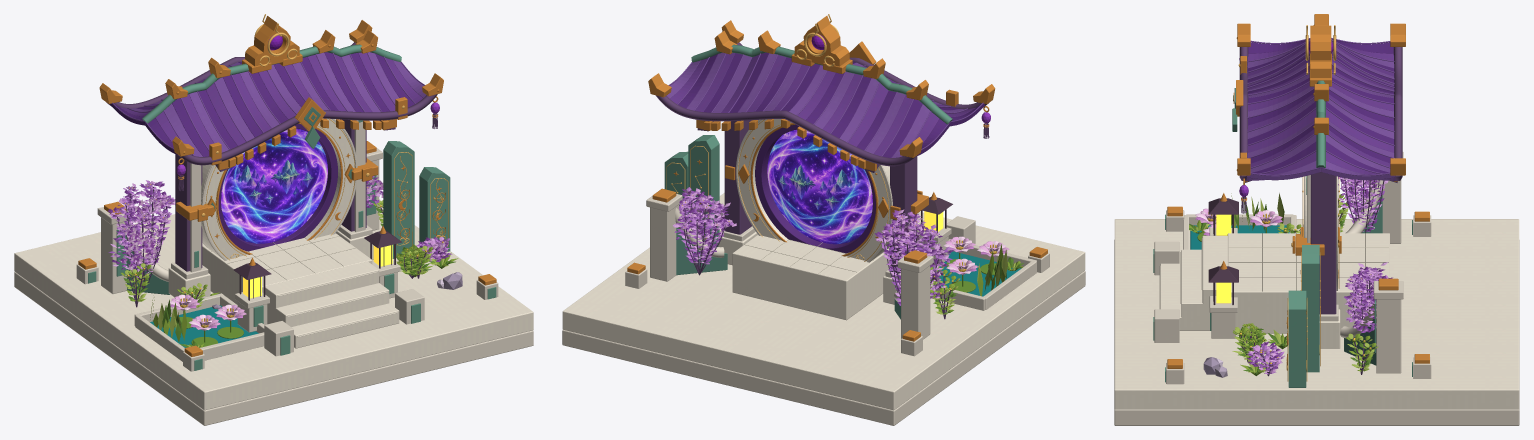
The model's file is secret-v18.glb.
3 renders of one model, left to right at view 1: azimuth 30°, elevation 25°; view 2: azimuth 150°, elevation 25°; view 3: azimuth 270°, elevation 25°, orthographic. The views are drawn at different scales.
Parts seen in each view (by area): view 1: GEO-export-MAT-secret-stone-light.008, GEO-export-MAT-secret-ivory.008, GEO-export-MAT-secret-gold.008, GEO-export-MAT-secret-jade-light.008, GEO-export-MAT-secret-portal-field.008, GEO-export-MAT-secret-roof-purple-0.008, GEO-export-MAT-secret-roof-purple-2.008, GEO-export-MAT-secret-purple-wood.008, GEO-export-MAT-secret-roof-purple-1.008, GEO-export-MAT-secret-gold-edge.008, GEO-export-MAT-secret-bloom-foliage-3.008, GEO-export-MAT-secret-bloom-foliage-2.008 (+11 smaller); view 2: GEO-export-MAT-secret-stone-light.008, GEO-export-MAT-secret-ivory.008, GEO-export-MAT-secret-portal-field.008, GEO-export-MAT-secret-gold.008, GEO-export-MAT-secret-roof-purple-0.008, GEO-export-MAT-secret-purple-wood.008, GEO-export-MAT-secret-roof-purple-2.008, GEO-export-MAT-secret-roof-purple-1.008, GEO-export-MAT-secret-jade-light.008, GEO-export-MAT-secret-bloom-foliage-2.008, GEO-export-MAT-secret-bloom-foliage-3.008, GEO-export-MAT-secret-bloom-foliage-1.008 (+7 smaller); view 3: GEO-export-MAT-secret-stone-light.008, GEO-export-MAT-secret-ivory.008, GEO-export-MAT-secret-roof-purple-2.008, GEO-export-MAT-secret-roof-purple-0.008, GEO-export-MAT-secret-purple-wood.008, GEO-export-MAT-secret-roof-purple-1.008, GEO-export-MAT-secret-gold.008, GEO-export-MAT-secret-jade-light.008, GEO-export-MAT-secret-bloom-foliage-3.008, GEO-export-MAT-secret-gold-edge.008, GEO-export-MAT-secret-bloom-foliage-0.008, GEO-export-MAT-secret-dark-bronze.008 (+9 smaller).
Part boxes in pixels (x1=…): GEO-export-MAT-secret-stone-light.008: x1=14, y1=118, x2=533, y2=410; GEO-export-MAT-secret-ivory.008: x1=14, y1=119, x2=533, y2=425; GEO-export-MAT-secret-gold.008: x1=78, y1=16, x2=496, y2=356; GEO-export-MAT-secret-jade-light.008: x1=88, y1=44, x2=496, y2=370; GEO-export-MAT-secret-portal-field.008: x1=221, y1=128, x2=327, y2=243; GEO-export-MAT-secret-roof-purple-0.008: x1=110, y1=52, x2=414, y2=251; GEO-export-MAT-secret-roof-purple-2.008: x1=112, y1=52, x2=426, y2=156; GEO-export-MAT-secret-purple-wood.008: x1=106, y1=42, x2=439, y2=307; GEO-export-MAT-secret-roof-purple-1.008: x1=120, y1=52, x2=422, y2=154; GEO-export-MAT-secret-gold-edge.008: x1=201, y1=14, x2=448, y2=260; GEO-export-MAT-secret-bloom-foliage-3.008: x1=110, y1=179, x2=443, y2=274; GEO-export-MAT-secret-bloom-foliage-2.008: x1=109, y1=179, x2=449, y2=277; GEO-export-MAT-secret-stone-light.008: x1=562, y1=119, x2=1085, y2=410; GEO-export-MAT-secret-ivory.008: x1=562, y1=119, x2=1085, y2=425; GEO-export-MAT-secret-portal-field.008: x1=767, y1=129, x2=872, y2=244; GEO-export-MAT-secret-gold.008: x1=627, y1=15, x2=1047, y2=341; GEO-export-MAT-secret-roof-purple-0.008: x1=678, y1=52, x2=984, y2=253; GEO-export-MAT-secret-purple-wood.008: x1=656, y1=42, x2=989, y2=319; GEO-export-MAT-secret-roof-purple-2.008: x1=666, y1=52, x2=983, y2=157; GEO-export-MAT-secret-roof-purple-1.008: x1=670, y1=53, x2=974, y2=156; GEO-export-MAT-secret-jade-light.008: x1=664, y1=44, x2=952, y2=246; GEO-export-MAT-secret-bloom-foliage-2.008: x1=675, y1=187, x2=950, y2=301; GEO-export-MAT-secret-bloom-foliage-3.008: x1=673, y1=188, x2=949, y2=298; GEO-export-MAT-secret-bloom-foliage-1.008: x1=674, y1=190, x2=952, y2=305; GEO-export-MAT-secret-stone-light.008: x1=1114, y1=175, x2=1519, y2=409; GEO-export-MAT-secret-ivory.008: x1=1114, y1=152, x2=1519, y2=425; GEO-export-MAT-secret-roof-purple-2.008: x1=1245, y1=38, x2=1397, y2=180; GEO-export-MAT-secret-roof-purple-0.008: x1=1247, y1=39, x2=1394, y2=173; GEO-export-MAT-secret-purple-wood.008: x1=1239, y1=47, x2=1402, y2=376; GEO-export-MAT-secret-roof-purple-1.008: x1=1246, y1=41, x2=1395, y2=180; GEO-export-MAT-secret-gold.008: x1=1167, y1=14, x2=1429, y2=368; GEO-export-MAT-secret-jade-light.008: x1=1153, y1=80, x2=1412, y2=387; GEO-export-MAT-secret-bloom-foliage-3.008: x1=1248, y1=178, x2=1388, y2=368; GEO-export-MAT-secret-gold-edge.008: x1=1238, y1=25, x2=1339, y2=381; GEO-export-MAT-secret-bloom-foliage-0.008: x1=1247, y1=176, x2=1392, y2=368; GEO-export-MAT-secret-dark-bronze.008: x1=1208, y1=198, x2=1238, y2=304.
Bounding box in the file's own units: 10 × 8.59 × 10.
44 materials, 7 textured.
